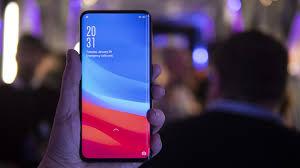oppo: (77, 4, 156, 165)
